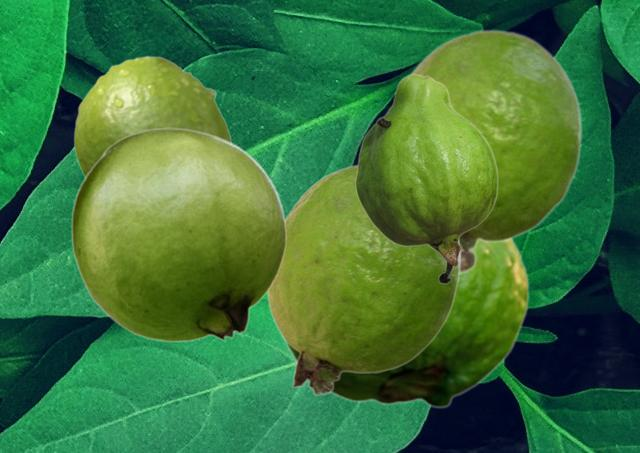guava: (70, 127, 286, 342), (266, 164, 460, 395), (409, 28, 582, 274), (281, 240, 528, 408), (354, 73, 497, 283), (73, 55, 231, 175)
